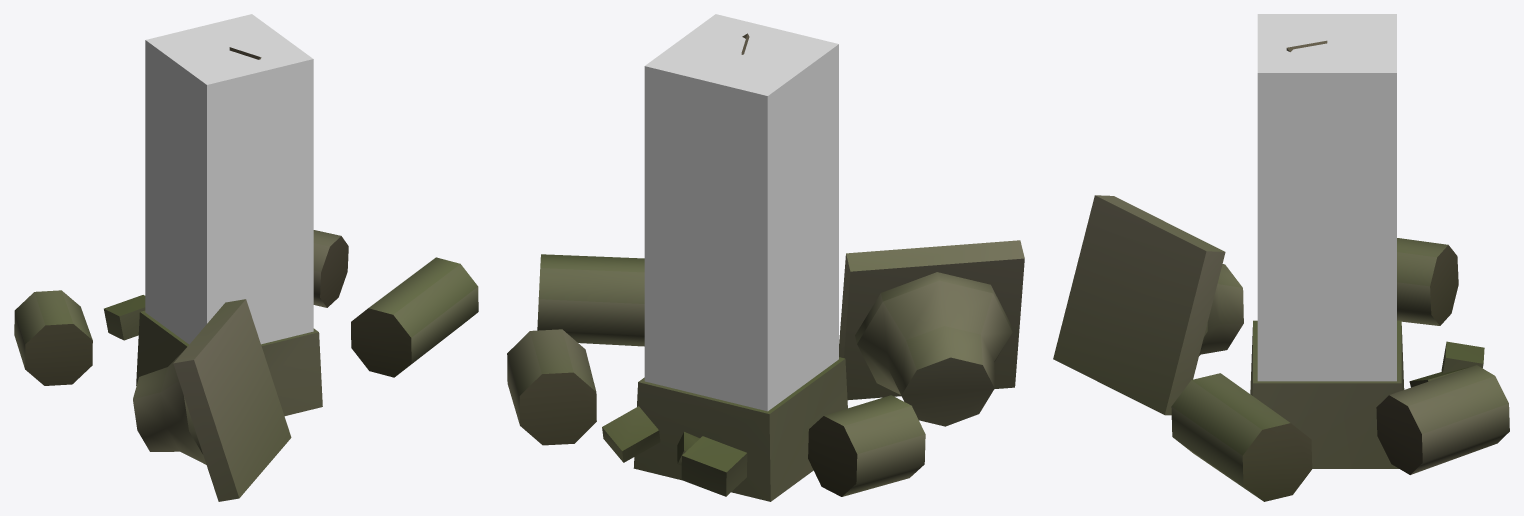
The model's file is pillar_broken.glb.
3 views of the same model, side by side, from view 1: azimuth 30°, elevation 25°; view 2: azimuth 150°, elevation 25°; view 3: azimuth 270°, elevation 25° (orthographic). The views are drawn at different scales.
Visible parts, largest first — view 1: COL_pillar, pillar_broken; view 2: pillar_broken, COL_pillar; view 3: pillar_broken, COL_pillar.
Part boxes in pixels (x1=…): COL_pillar: x1=145, y1=14, x2=313, y2=344; pillar_broken: x1=14, y1=47, x2=478, y2=501; pillar_broken: x1=507, y1=33, x2=1024, y2=501; COL_pillar: x1=644, y1=14, x2=838, y2=411; pillar_broken: x1=1053, y1=40, x2=1509, y2=501; COL_pillar: x1=1257, y1=14, x2=1396, y2=381.
Size of the model in its own units: 3.32 by 2.82 by 2.95.
